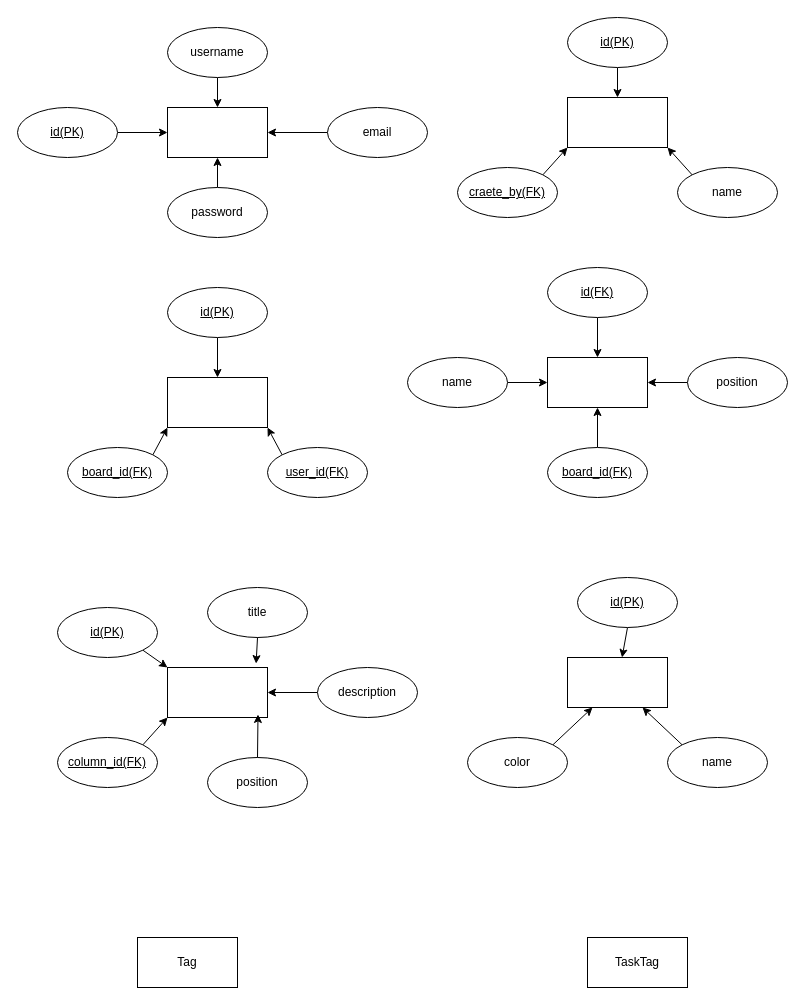
Some shapes in this 805 by 1005 pixel diagram are drawn without their labels. The centre of each missing label's shape, as x and y in pixels:
"Board" goes at pixel 617 122.
"BoardMember" goes at pixel 217 402.
"Column" goes at pixel 597 382.
"Task" goes at pixel 217 692.
"TaskMember" goes at pixel 617 682.
"User" goes at pixel 217 132.
